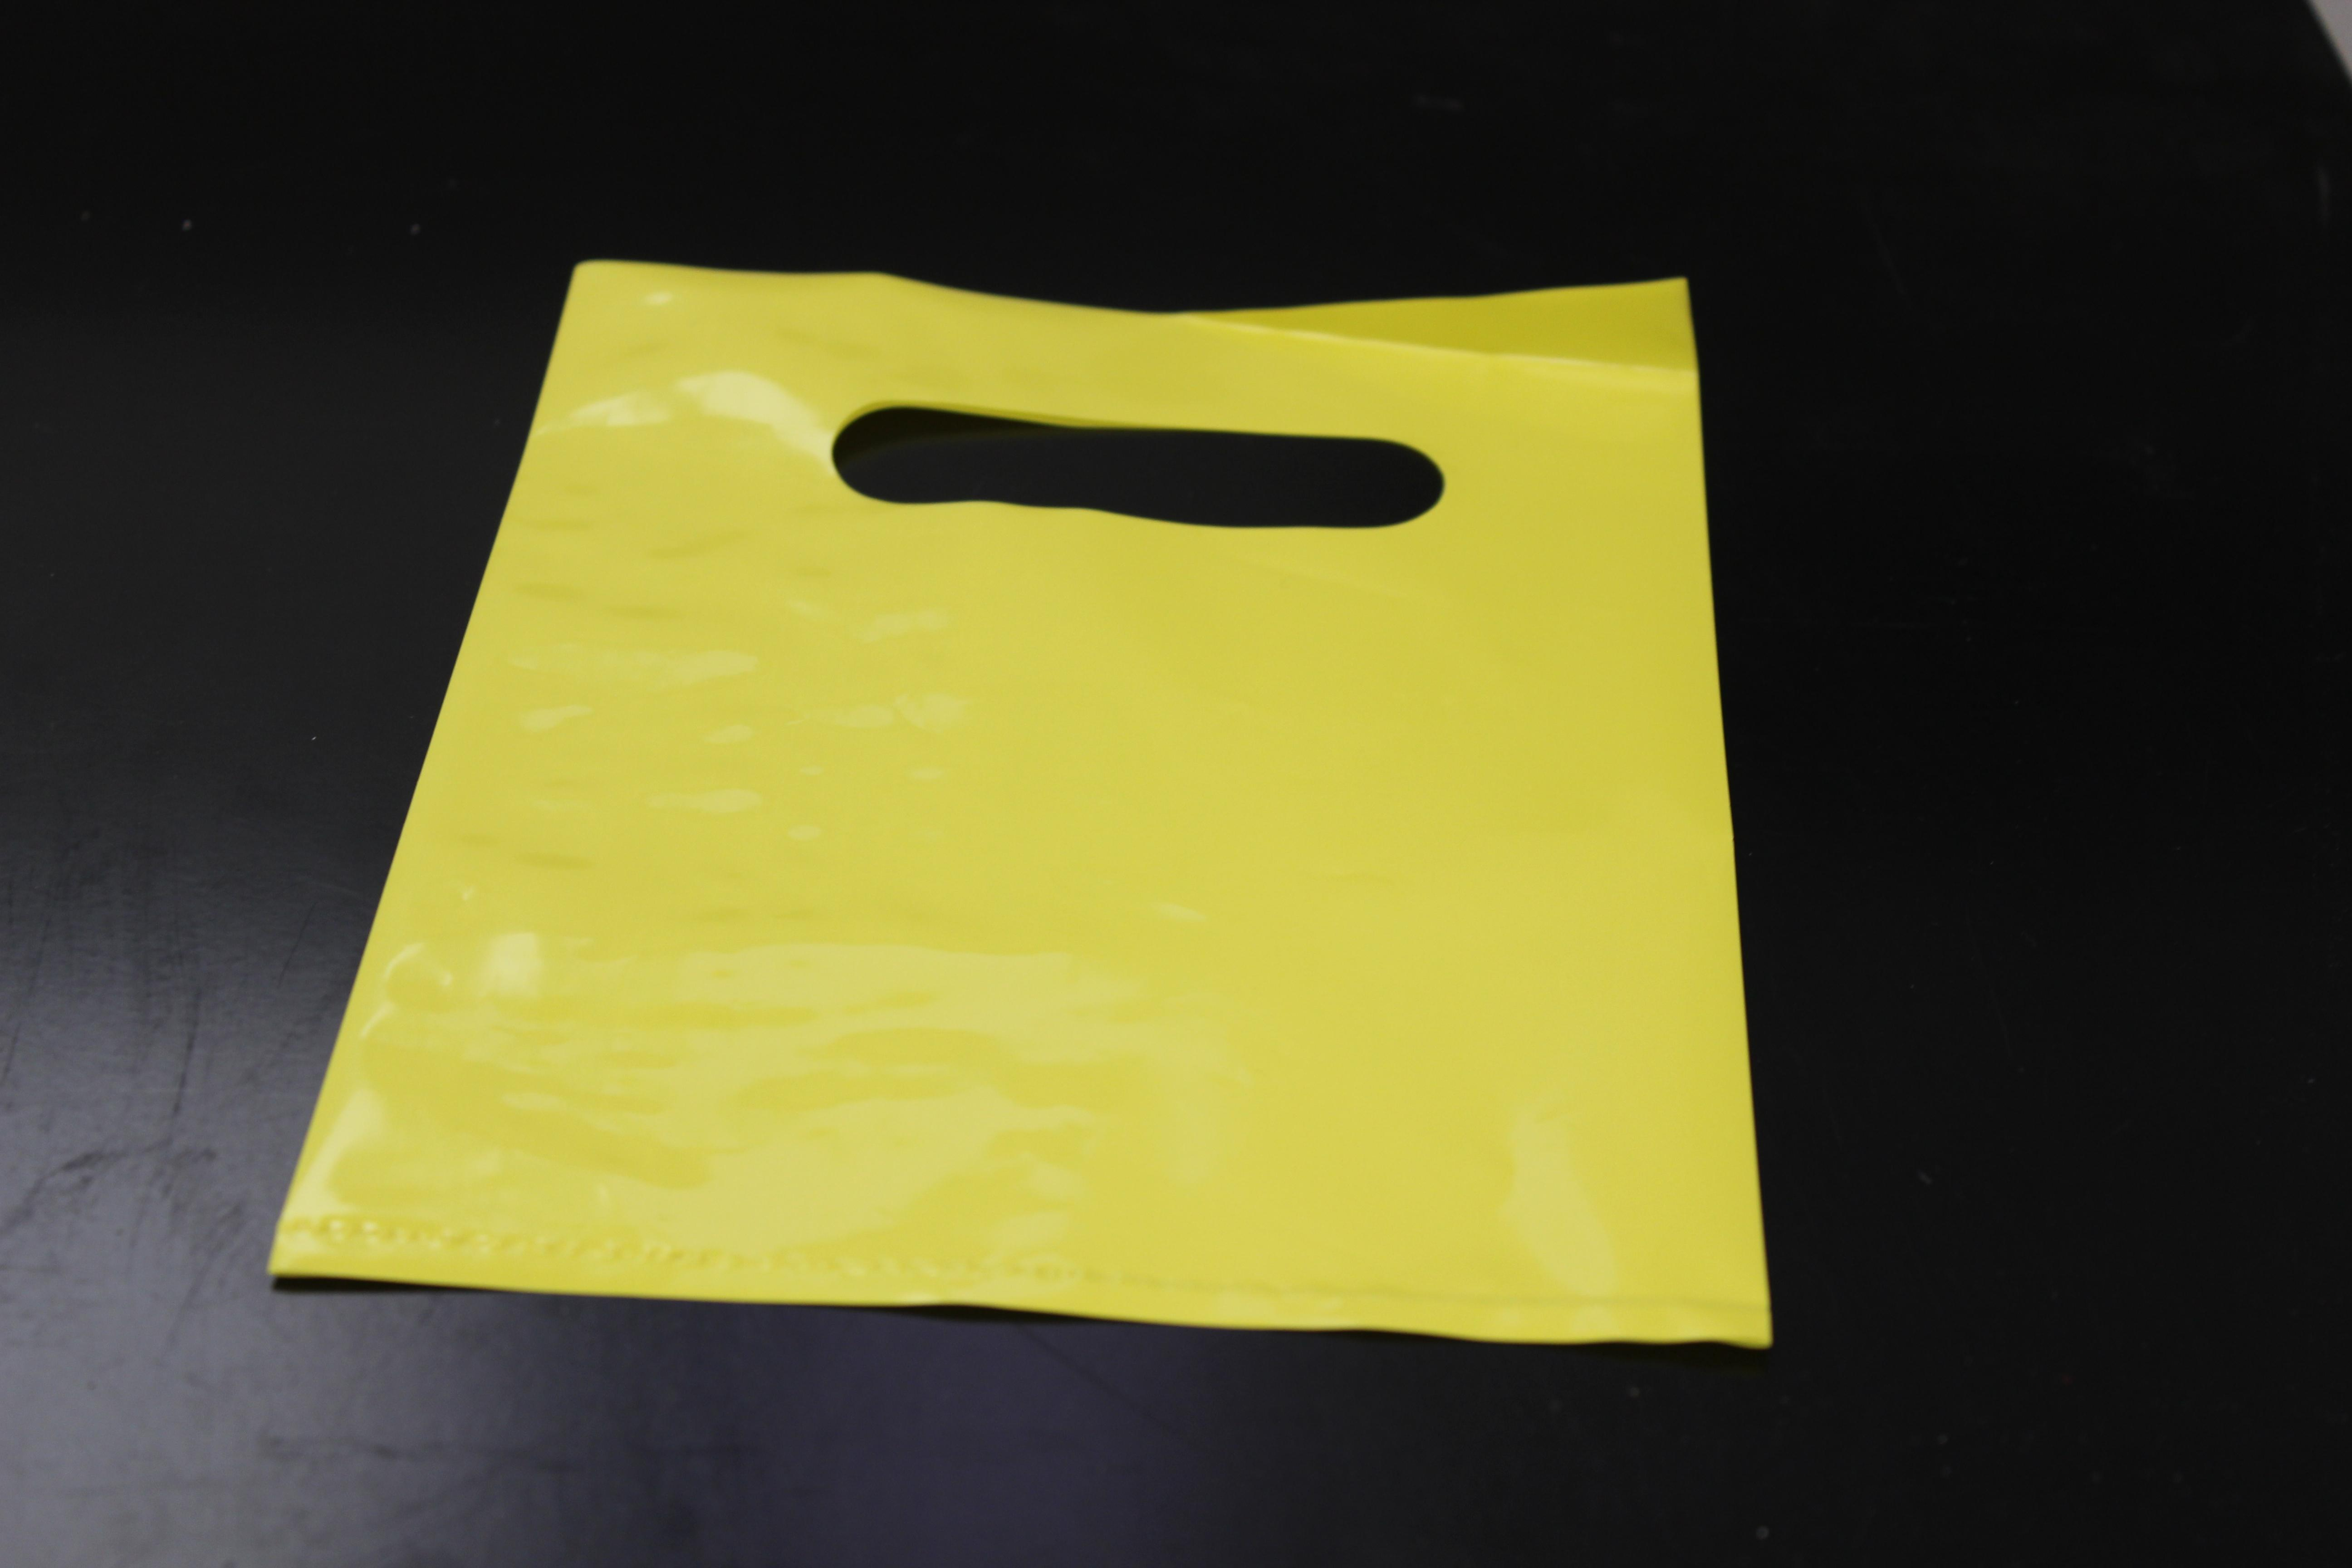yellowBag: (222, 219, 1857, 1430)
